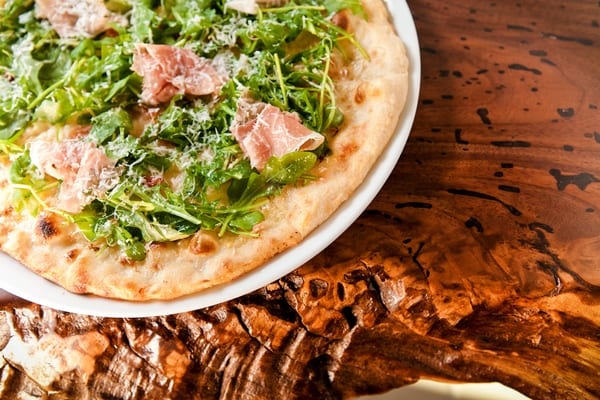curry: (7, 0, 598, 393)
sandwich: (0, 0, 414, 303)
